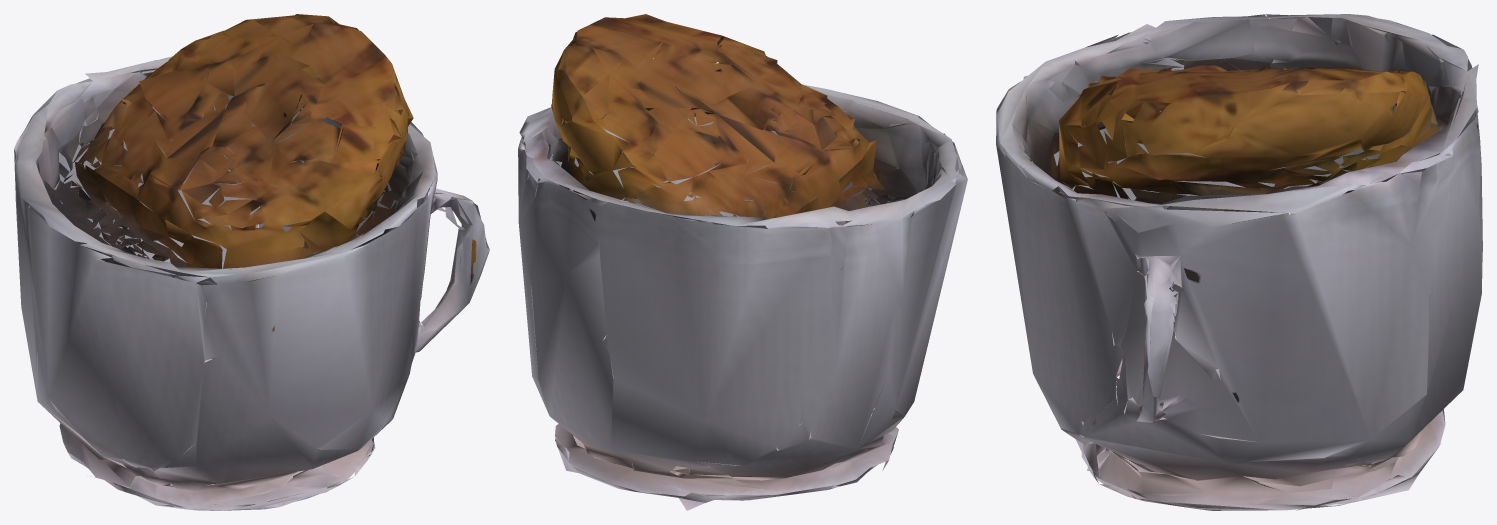
The model's file is biscuit coffee.glb.
3 views of the same model, side by side, from view 1: azimuth 30°, elevation 25°; view 2: azimuth 150°, elevation 25°; view 3: azimuth 270°, elevation 25° (orthographic). The views are drawn at different scales.
Visible parts, largest first — view 1: cafe biscuit; view 2: cafe biscuit; view 3: cafe biscuit.
Part boxes in pixels (x1,y1,x2,y2): cafe biscuit: (14,14,489,510); cafe biscuit: (518,14,967,510); cafe biscuit: (996,14,1482,510).
Bounding box in the file's own units: 1.01 × 0.8953 × 0.8875.
1 material, 1 textured.
